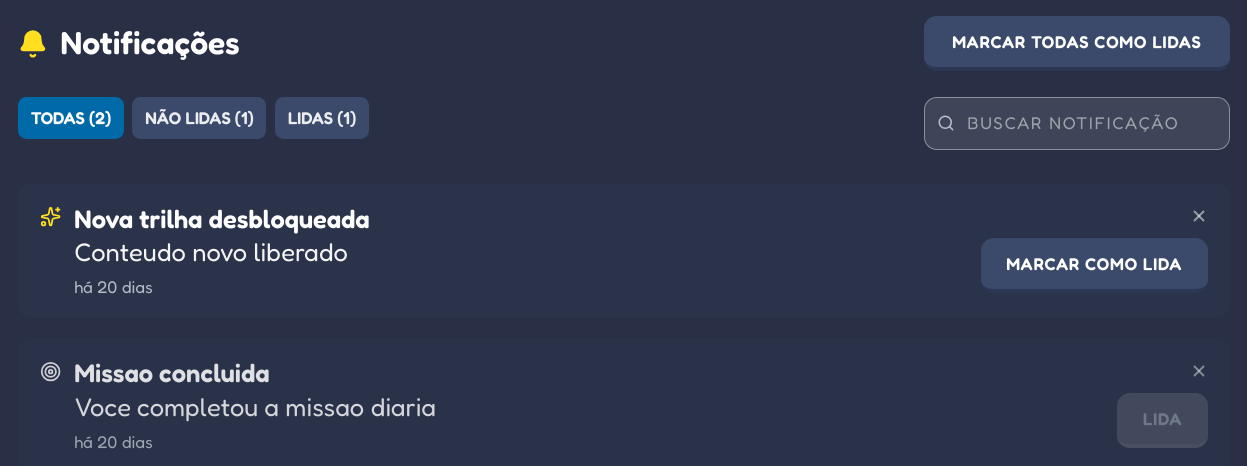
NotificationsPage › deve filtrar notificacoes por status e por texto
Expected: the heading "Nova trilha desbloqueada" is shown, left=74, top=202, right=370, bottom=236
Click the button "LIDAS (1)". click: x=322, y=118
box: left=275, top=96, right=369, bottom=139
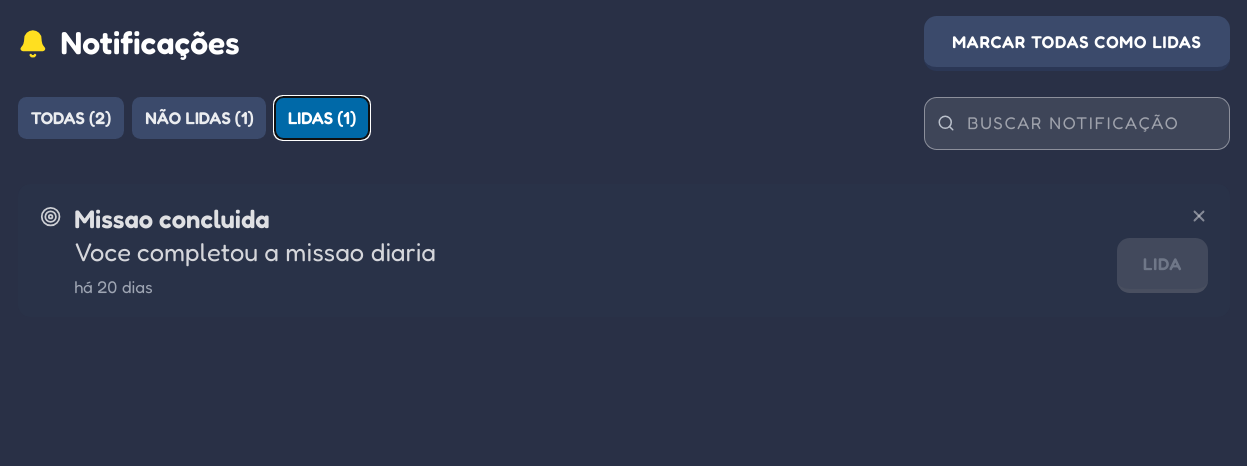
Expected: the heading "Missao concluida" is shown, left=74, top=202, right=270, bottom=234
Now the heading "Nova trilha desbloqueada" is gone
Click the button "TODAS (2)". click: x=71, y=118
box: left=18, top=96, right=124, bottom=139
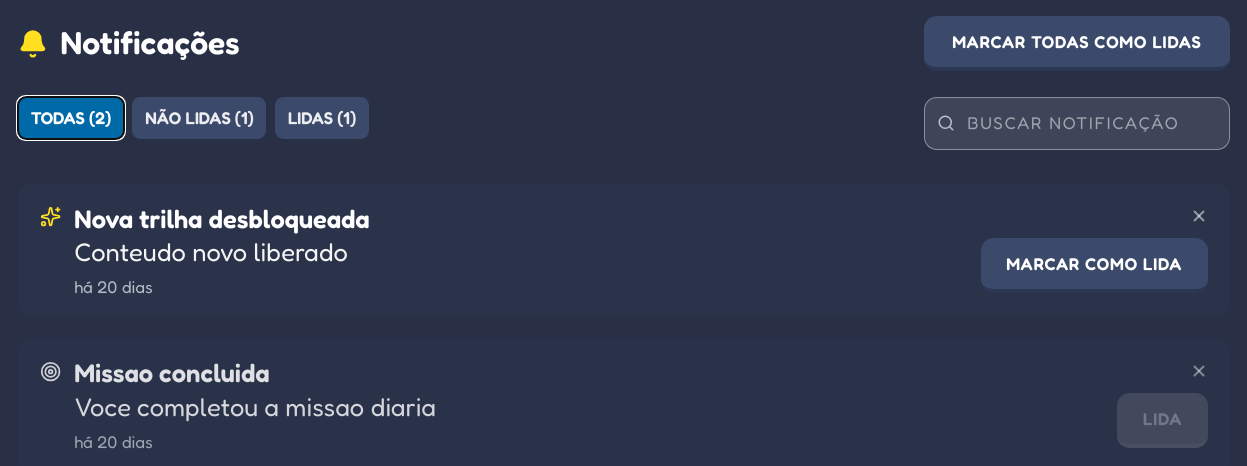
Type "trilha" into the field labelled "Buscar notificação". click: x=1077, y=123
box: left=924, top=96, right=1230, bottom=150
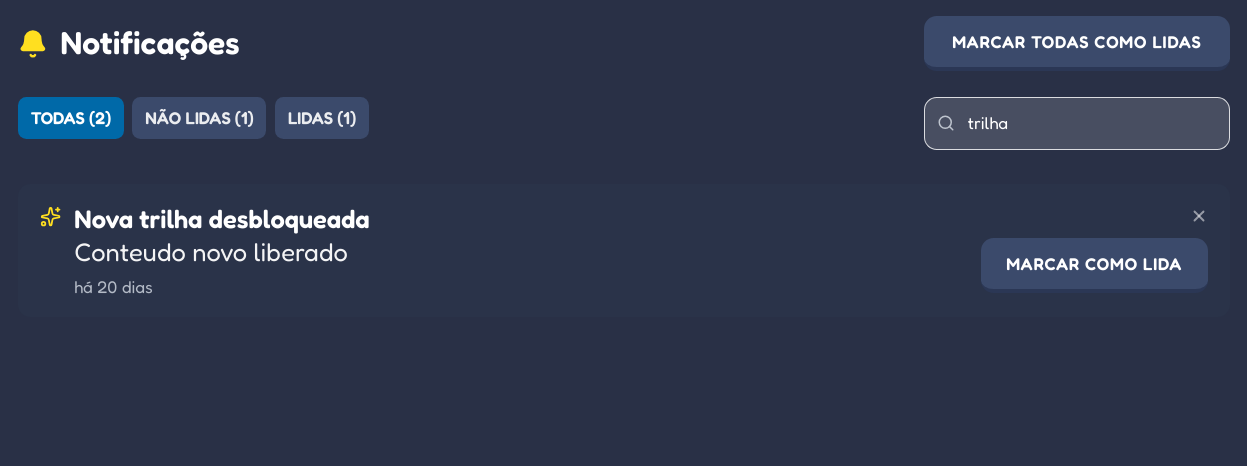
Now the heading "Nova trilha desbloqueada" is shown, box left=74, top=202, right=370, bottom=236
Now the heading "Missao concluida" is gone
